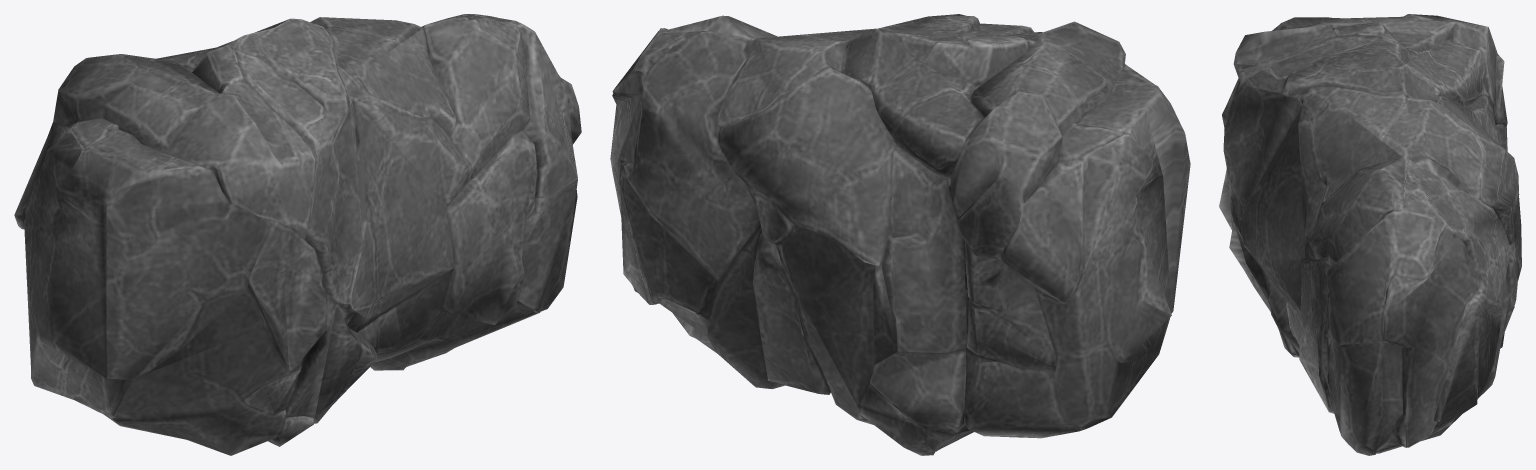
File: cliff.glb
The picture shows the model from 3 angles, left to right: view 1: azimuth 30°, elevation 25°; view 2: azimuth 150°, elevation 25°; view 3: azimuth 270°, elevation 25°; orthographic projection. The views are drawn at different scales.
Parts seen in each view (by area): view 1: ValleyGrayCliff; view 2: ValleyGrayCliff; view 3: ValleyGrayCliff.
Part boxes in pixels (x1,y1,x2,y2): ValleyGrayCliff: (14, 14, 581, 455); ValleyGrayCliff: (610, 14, 1190, 455); ValleyGrayCliff: (1219, 14, 1521, 455).
Size of the model in its own units: 7.71 by 5.28 by 4.2.
Materials: 1 (1 with a texture image).
